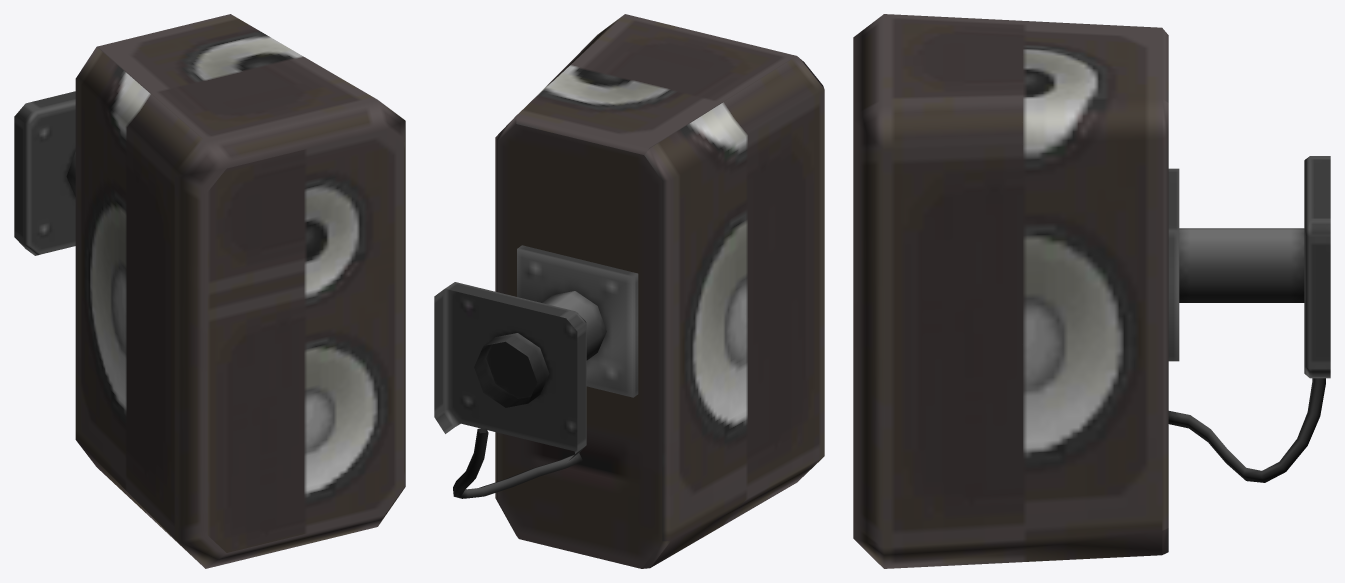
File: int_oth_speaker_wall.dae
3 views of the same model, side by side, from view 1: azimuth 30°, elevation 25°; view 2: azimuth 150°, elevation 25°; view 3: azimuth 270°, elevation 25° (orthographic). The views are drawn at different scales.
Parts seen in each view (by area): view 1: int_oth_speaker_wall; view 2: int_oth_speaker_wall; view 3: int_oth_speaker_wall.
Boxes of the visible parts, x1=… form: int_oth_speaker_wall: x1=14, y1=14, x2=405, y2=568; int_oth_speaker_wall: x1=434, y1=14, x2=824, y2=568; int_oth_speaker_wall: x1=853, y1=14, x2=1330, y2=568.
Bounding box in the file's own units: 12.33 × 22.12 × 20.63.
Materials: 1 (1 with a texture image).
